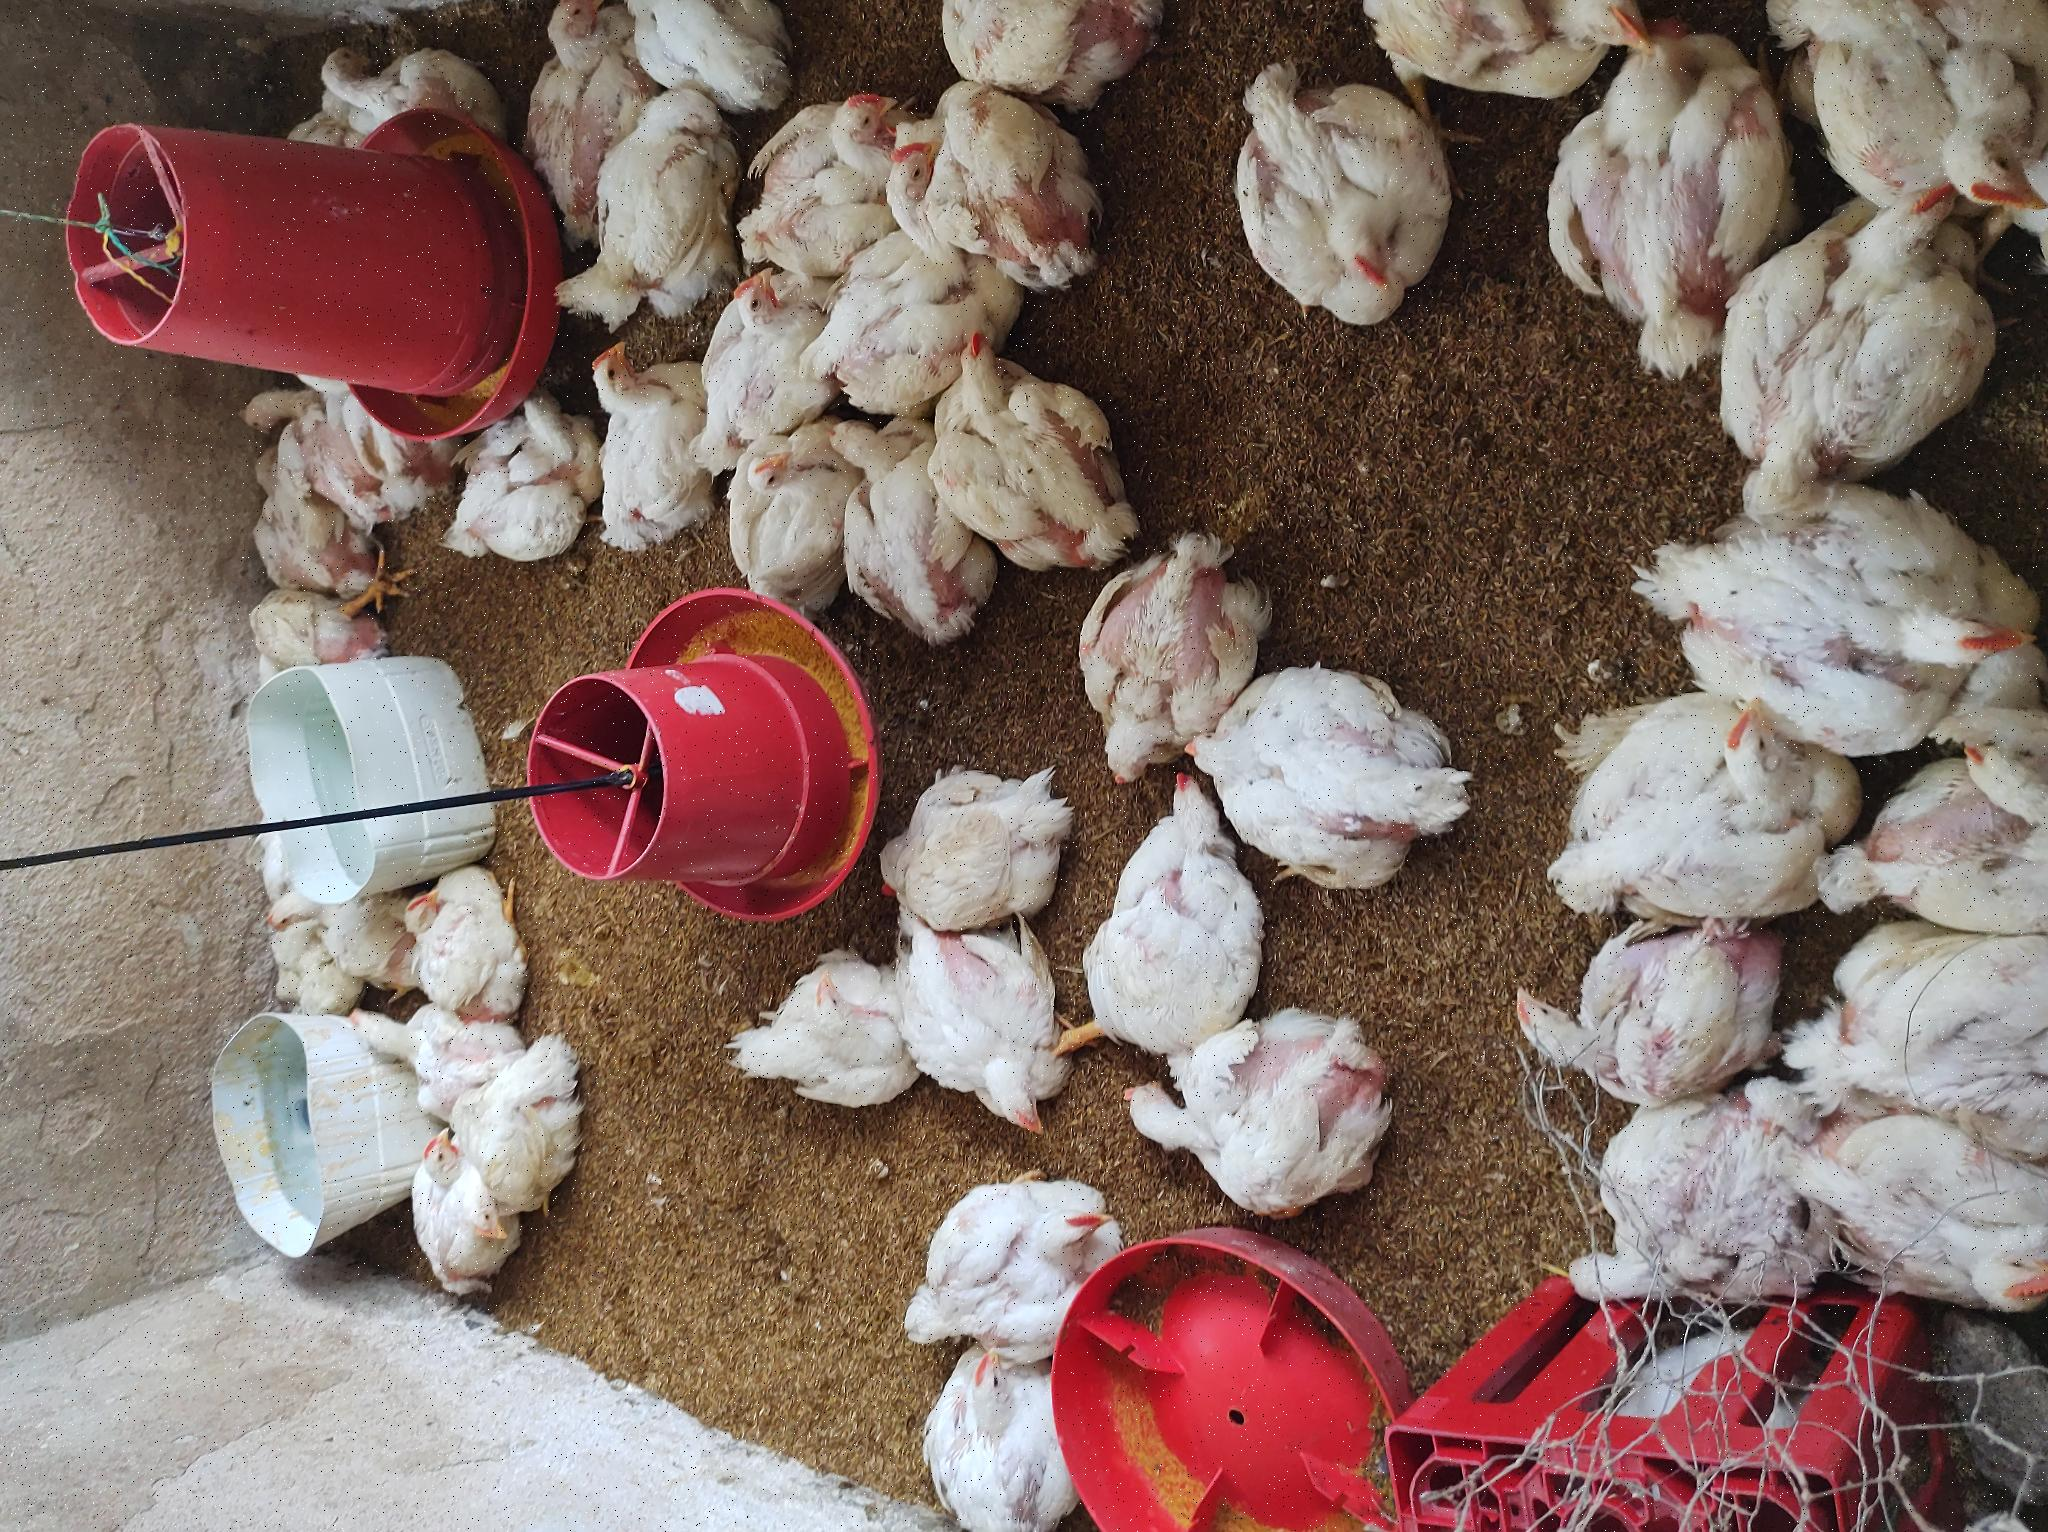Pollos: (301, 1123, 539, 1390), (1208, 1247, 1467, 1460), (484, 1060, 759, 1250), (672, 1197, 859, 1468), (977, 933, 1195, 1135), (185, 898, 380, 1118), (759, 1080, 1001, 1252), (399, 895, 610, 1083), (1248, 888, 1433, 1102), (603, 863, 769, 1070), (1228, 586, 1440, 739), (10, 901, 183, 1077), (1258, 739, 1450, 895), (903, 830, 1120, 966), (420, 726, 586, 898), (981, 579, 1191, 713), (296, 451, 492, 584), (965, 444, 1121, 600), (1438, 932, 1533, 1184), (1078, 682, 1256, 816), (1026, 237, 1158, 401), (933, 716, 1097, 846), (1327, 520, 1532, 618), (841, 245, 952, 406), (542, 401, 668, 536), (1403, 319, 1491, 504), (418, 343, 539, 472), (1450, 1360, 1533, 1532), (948, 246, 1030, 406), (241, 397, 410, 472), (582, 251, 658, 367), (1302, 880, 1380, 945)
